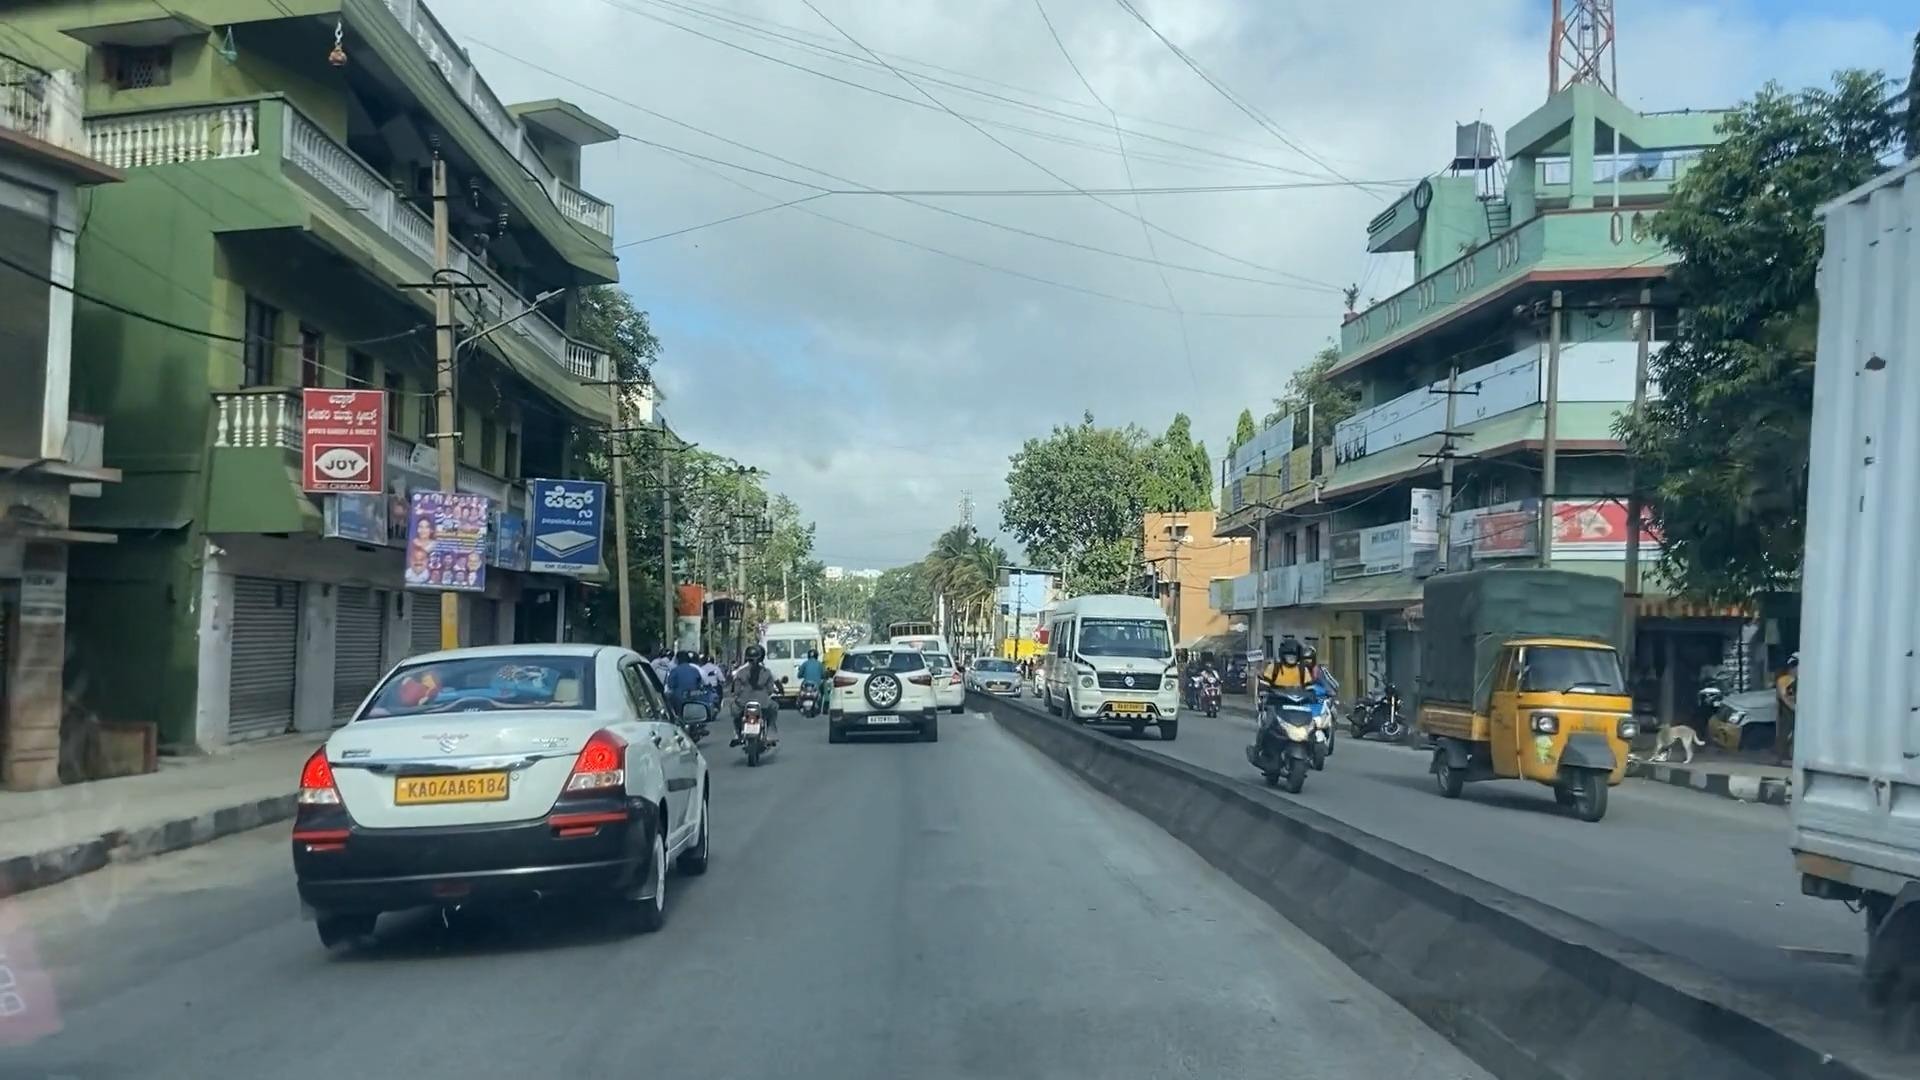LMV: (286, 654, 707, 963), (832, 646, 936, 745), (736, 644, 773, 767)
